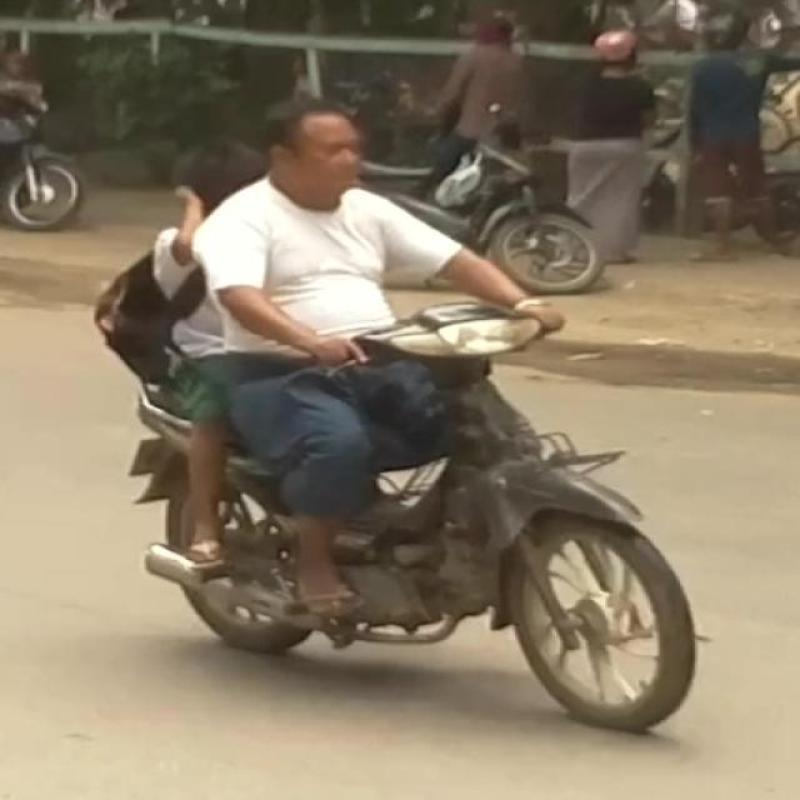nohelmet: (239, 76, 380, 226)
